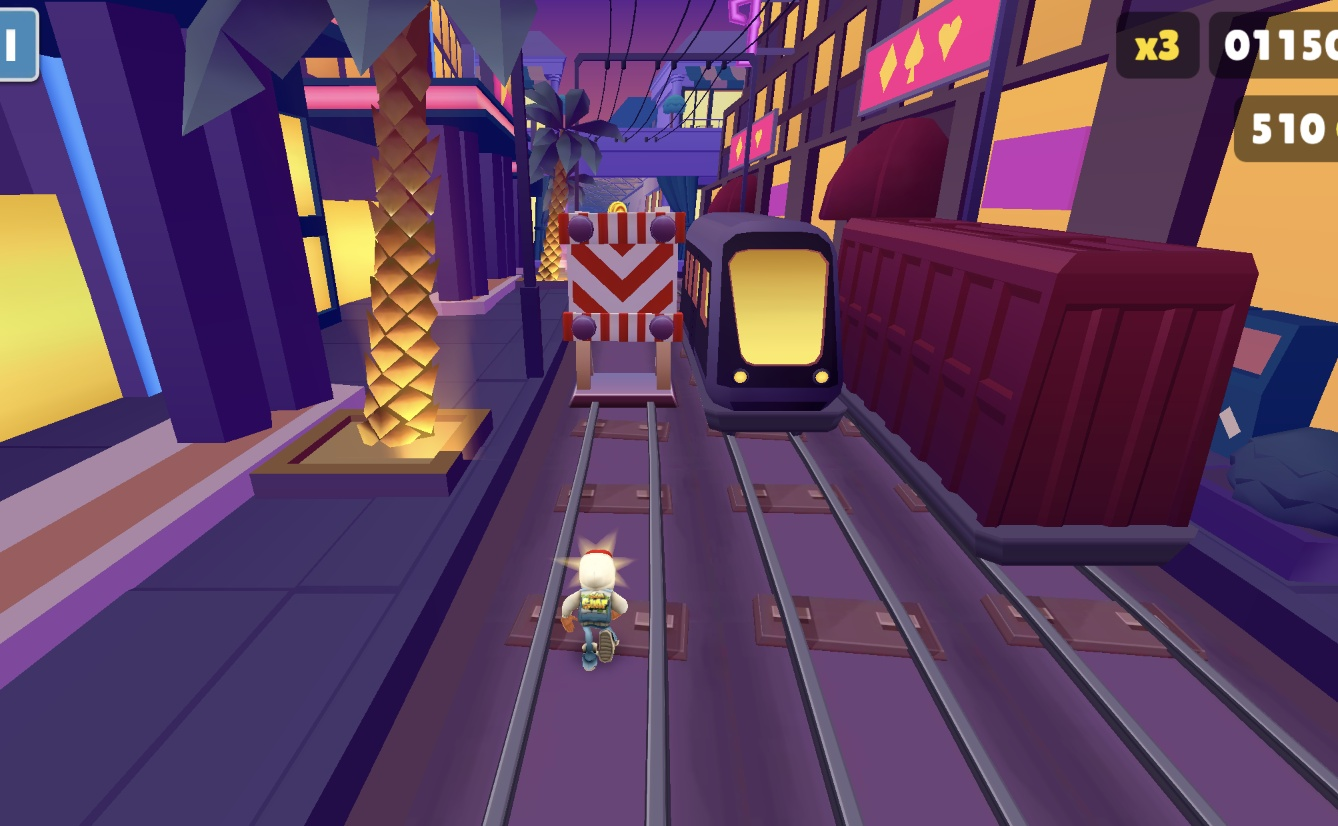overhead_barrier: (569, 205, 691, 404)
train: (836, 222, 1256, 542), (689, 220, 859, 427)
